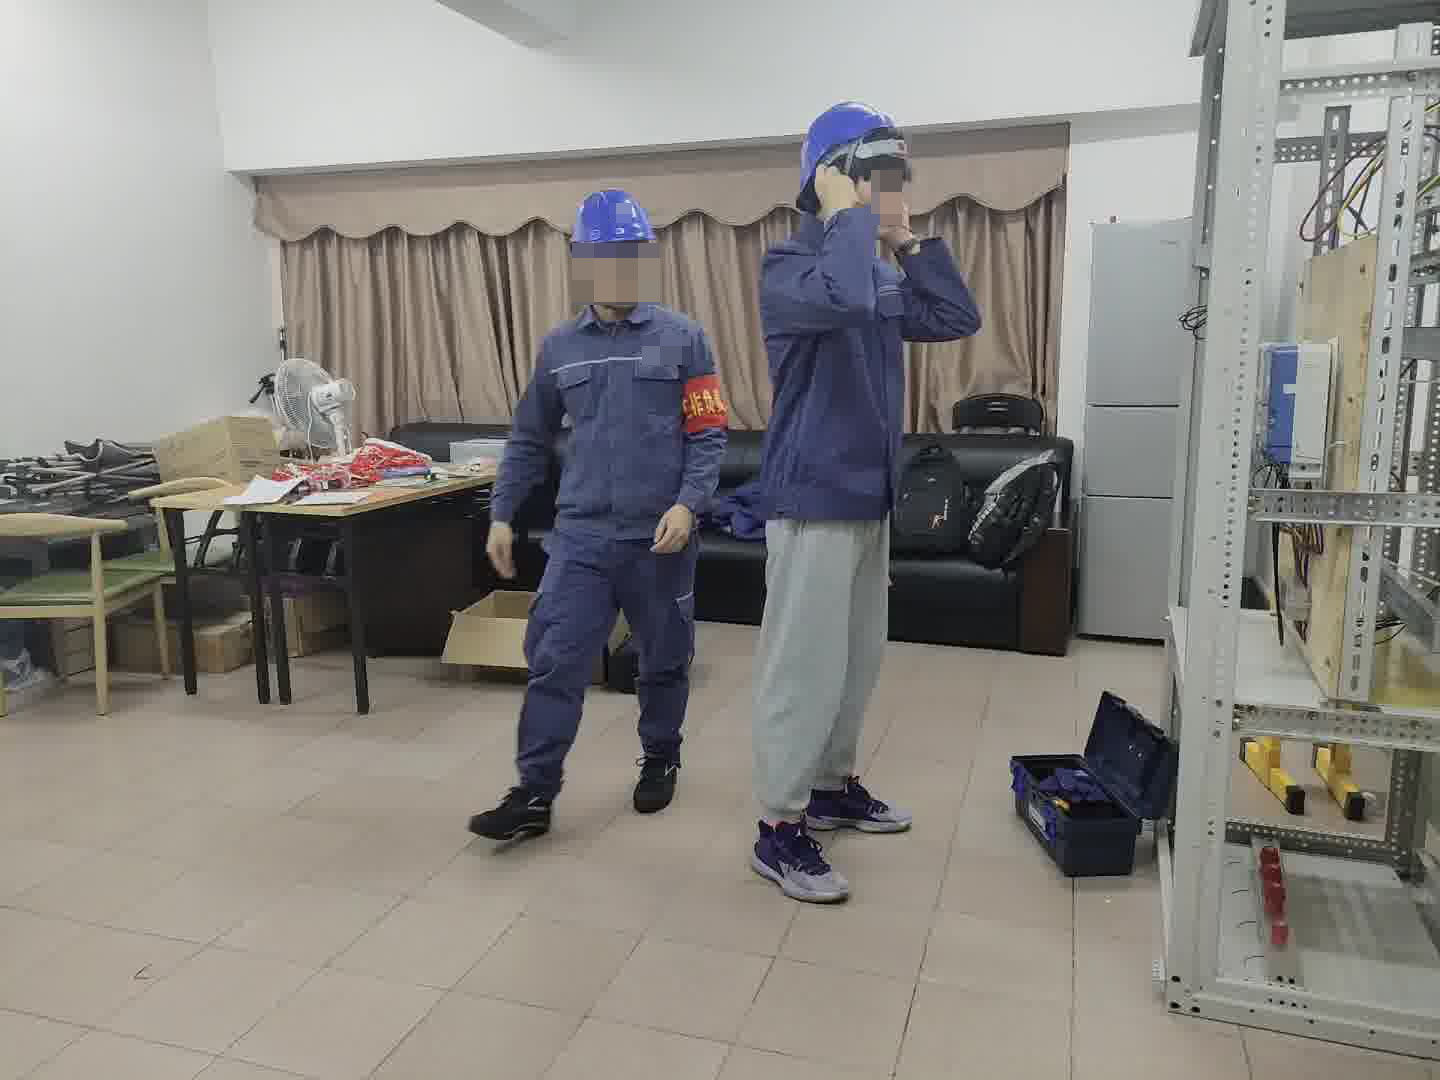badge: (680, 372, 731, 439)
downcloth: (759, 527, 892, 806)
downsuit: (508, 556, 702, 788)
fhalt: (799, 103, 915, 216)
halt: (564, 186, 660, 313)
hand: (812, 164, 859, 217), (482, 518, 518, 581), (654, 503, 692, 553)
person: (746, 102, 984, 906), (472, 185, 731, 836)
upsuit: (756, 214, 976, 515), (493, 301, 728, 544)
